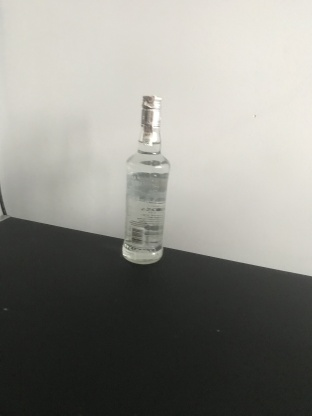nakretka: (139, 92, 163, 129)
